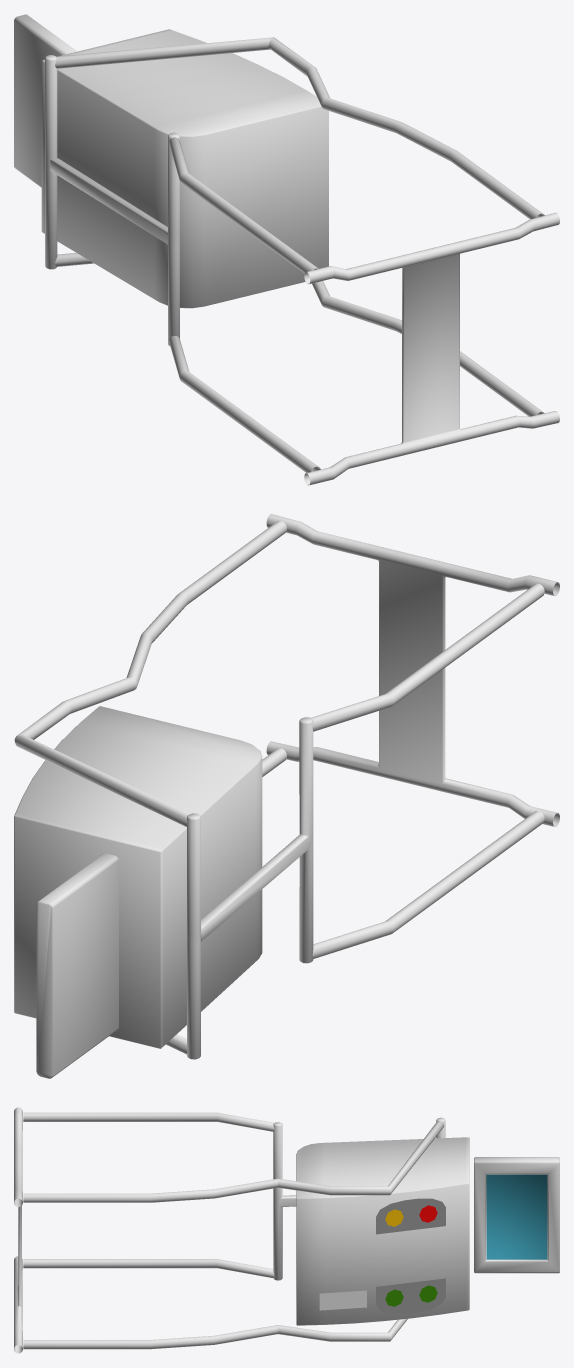
3 renders of one model, top to bottom at view 1: azimuth 30°, elevation 25°; view 2: azimuth 150°, elevation 25°; view 3: azimuth 270°, elevation 25°, orthographic. The views are drawn at different scales.
Visible parts, largest first — view 1: Cube.001; view 2: Cube.001; view 3: Cube.001.
Part boxes in pixels (<box>): Cube.001: <box>14,14,559,485</box>; Cube.001: <box>14,514,559,1078</box>; Cube.001: <box>14,1107,559,1353</box>.
Bounding box in the file's own units: 59.77 × 48.67 × 153.
